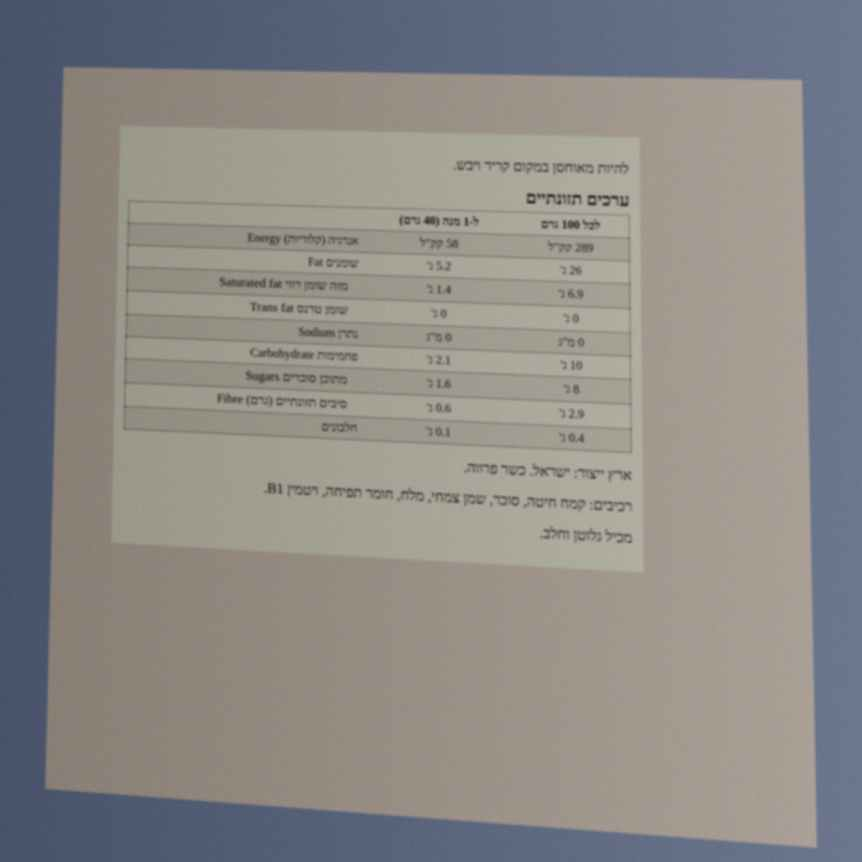carbs: (559, 357, 584, 374)
energy: (546, 239, 595, 256)
fat: (558, 262, 583, 278)
protein: (558, 429, 586, 446)
